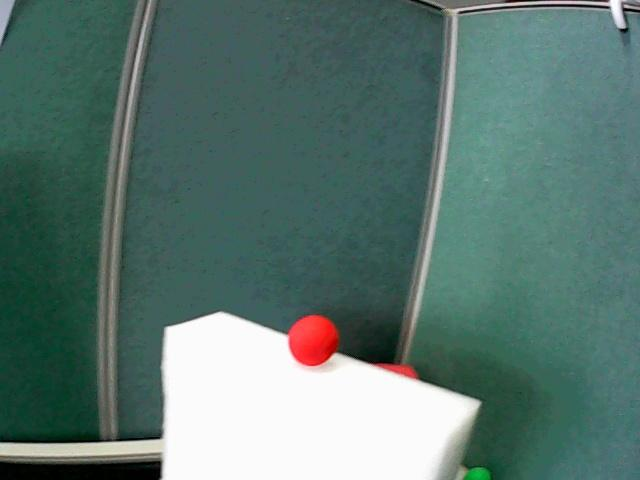red_block: (374, 363, 418, 378)
